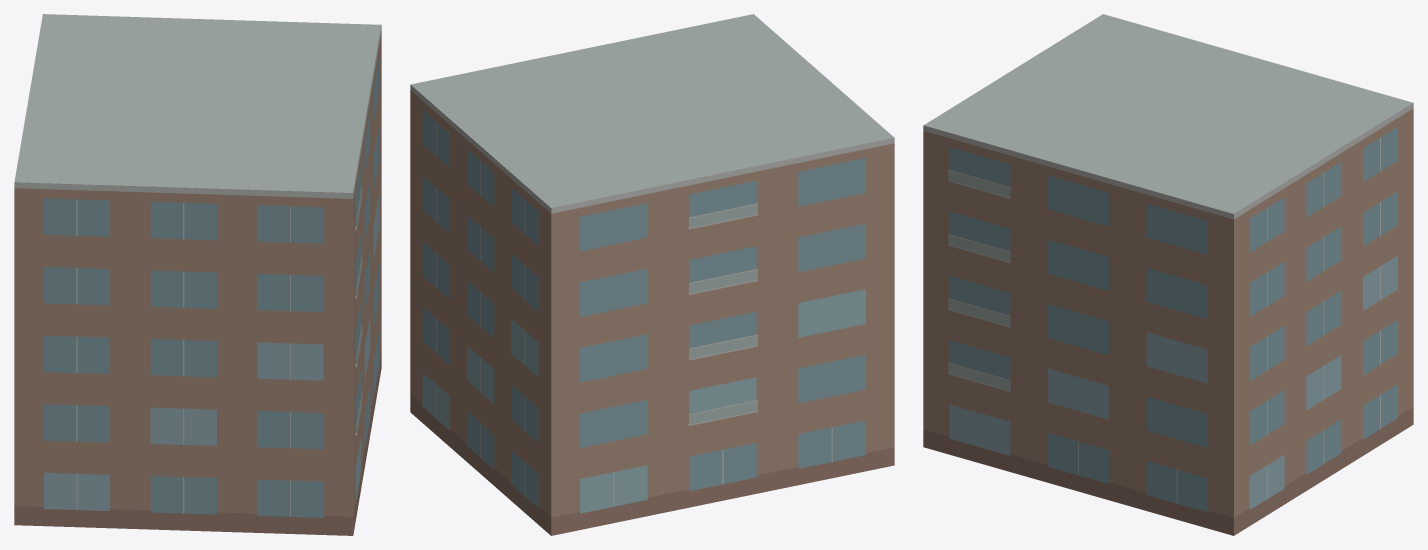
Rendered from survey-upis-32756370.glb.
3 renders of one model, left to right at view 1: azimuth 30°, elevation 25°; view 2: azimuth 150°, elevation 25°; view 3: azimuth 270°, elevation 25°, orthographic. The views are drawn at different scales.
Parts seen in each view (by area): view 1: survey-upis-32756370.tmp; view 2: survey-upis-32756370.tmp; view 3: survey-upis-32756370.tmp.
Boxes of the visible parts, left/top/right/bottom form: survey-upis-32756370.tmp: left=14, top=14, right=381, bottom=535; survey-upis-32756370.tmp: left=410, top=14, right=894, bottom=535; survey-upis-32756370.tmp: left=923, top=14, right=1413, bottom=535.
Size of the model in its own units: 19.08 by 14.3 by 19.74.
